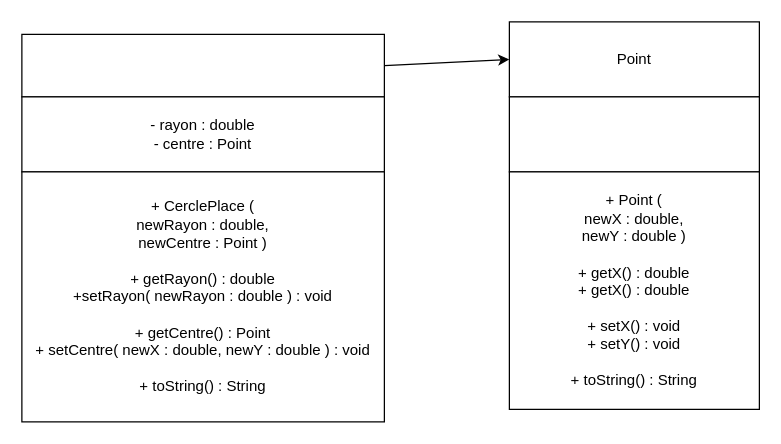
This 781x444 diagram has some shape labels left out. The shapes that lost their labels are listed below. From the top down, each one's centre as x and y in pixels, then its label:
At (202,65): "CerclePlace".
At (633,134): "- x : double - y : double".
